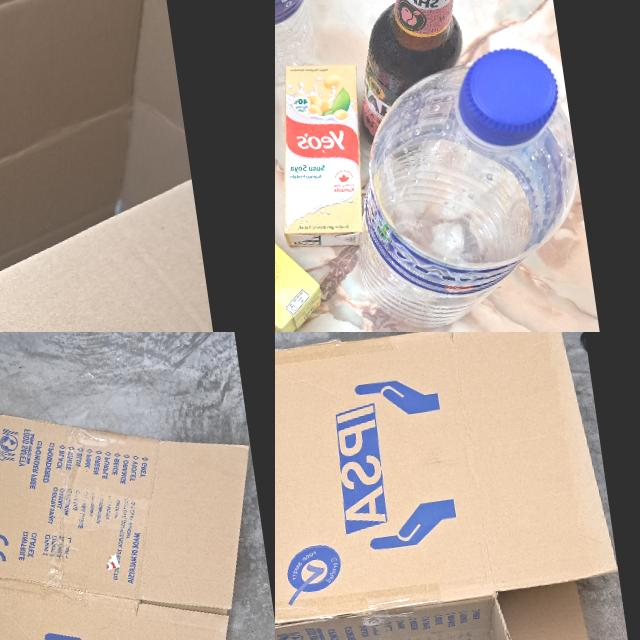caixinha: (275, 54, 380, 261), (275, 144, 323, 332)
garrafa de vidro: (334, 0, 481, 154)
garrafa plástica: (341, 59, 596, 332), (275, 0, 324, 102)
papelão: (275, 332, 640, 640), (0, 0, 249, 332), (0, 358, 275, 640)
tampa plástica: (456, 44, 560, 148)
